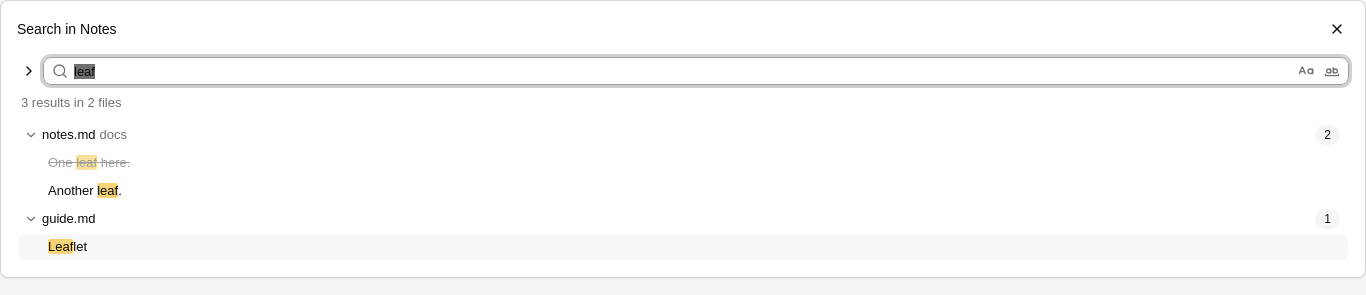
Scenario: folder search panel › does not activate a match found gone, and marks the chosen one selected
This screenshot has width=1366, height=295.
Click the list item "One leaf here." at (89, 162), box [48,155,130,170]
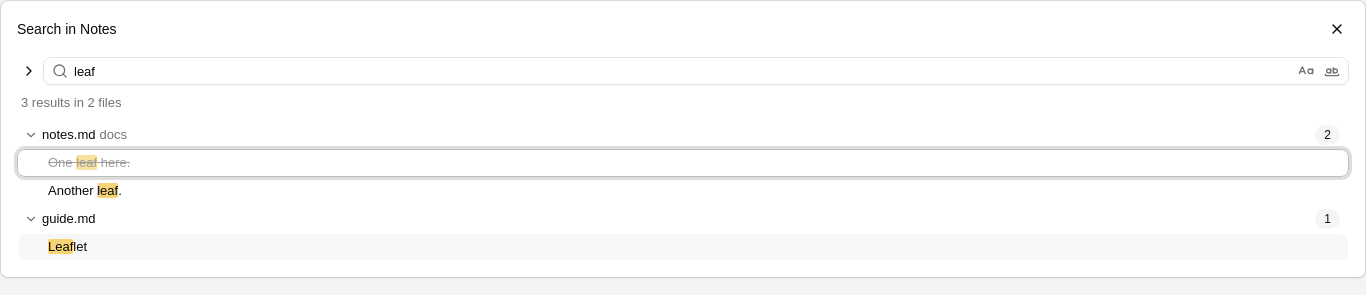
Hover over the list item "One leaf here." at (683, 163), box [17,149,1349,177]
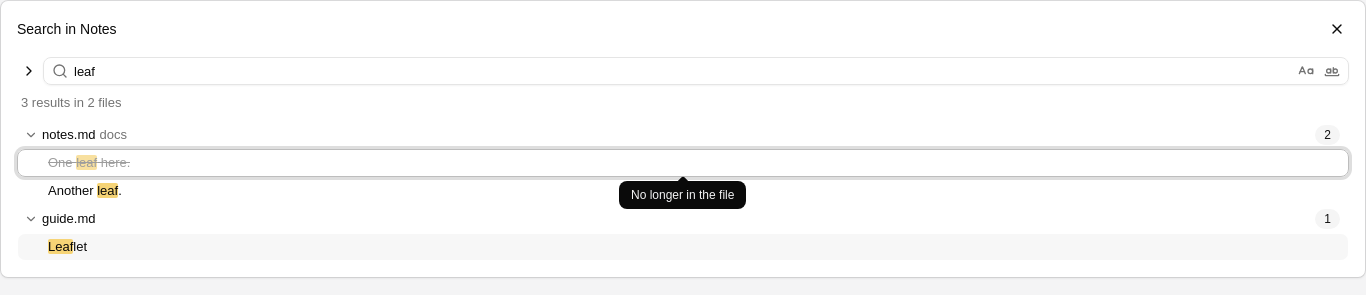
Result: the element showing "No longer in the file" is shown at [619,181,746,209]
